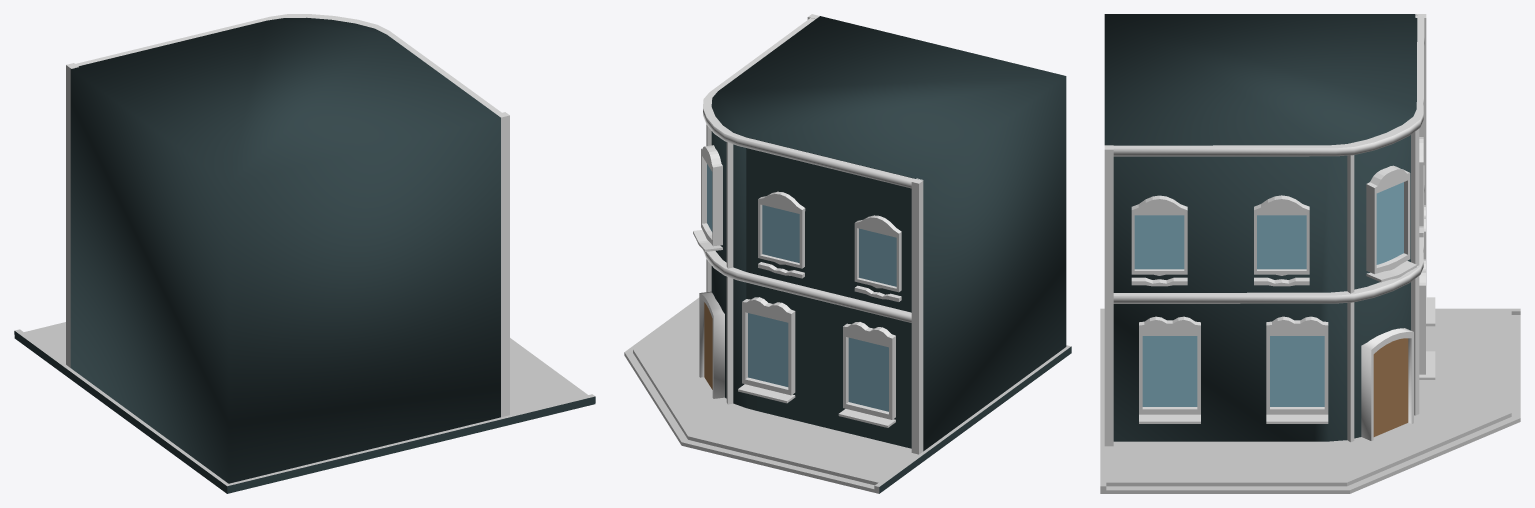
Rendered from cornerapartment1.dae.
3 renders of one model, left to right at view 1: azimuth 30°, elevation 25°; view 2: azimuth 150°, elevation 25°; view 3: azimuth 270°, elevation 25°, orthographic. The views are drawn at different scales.
Parts seen in each view (by area): view 1: Cube_064; view 2: Cube_064; view 3: Cube_064.
Part boxes in pixels (x1=…): Cube_064: x1=14, y1=14, x2=595, y2=493; Cube_064: x1=624, y1=14, x2=1071, y2=493; Cube_064: x1=1100, y1=14, x2=1520, y2=493.
Bounding box in the file's own units: 70.01 × 70.01 × 56.42.
